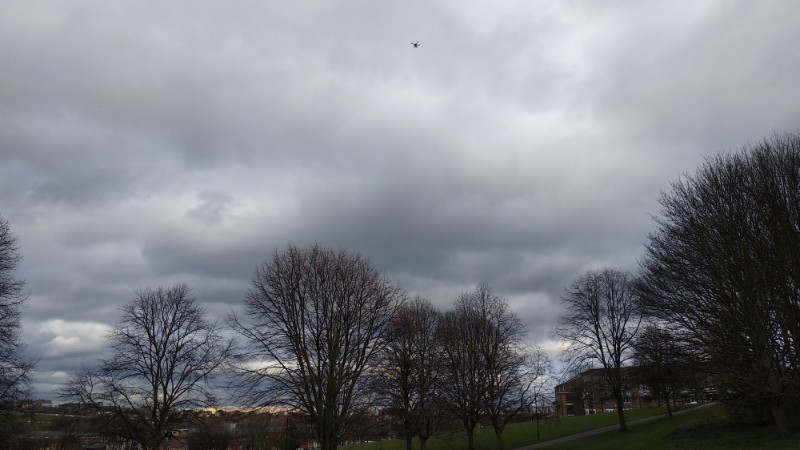drone: (410, 41, 421, 49)
